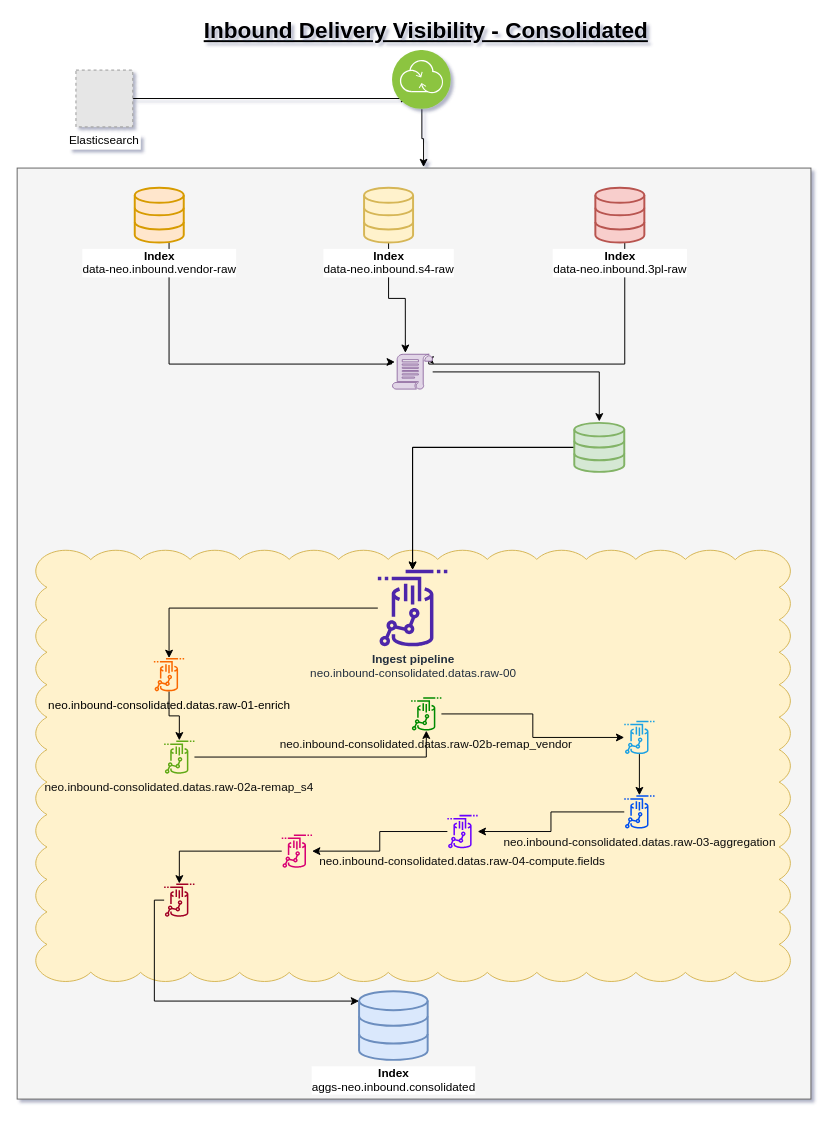
Some shapes in this 834 by 1122 pixel diagram are drawn without their labels. Grey dashed boxes stand in for pictures. Here are the shapes that lost their labels. From the top down, the centre of each, then its label:
the point at 421,79: Trasnform aggs-neo.inbound.consolidated-transform
the point at 412,371: Enrich policy aggs-neo.inbound.consolidated-enrich_policy
the point at 599,446: Index aggs-neo.inbound.consolidated-enrich_index
the point at 639,737: neo.inbound-consolidated.datas.raw-02c-remap_3pl
the point at 296,850: neo.inbound-consolidated.datas.raw-05-normaize
the point at 178,899: neo.inbound-consolidated.datas.raw-06-cleanup
